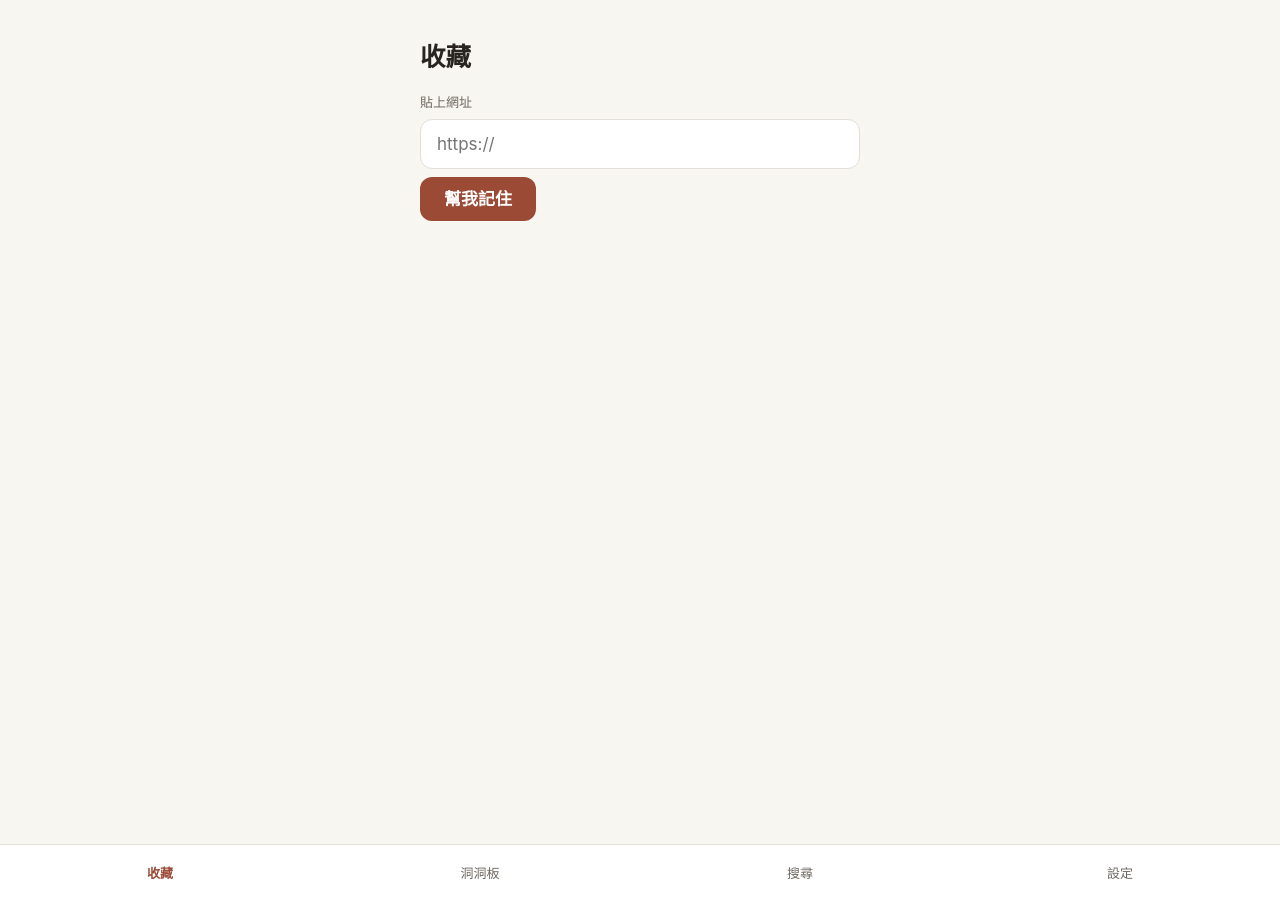
App shell › navigates to 洞洞板 when its nav item is clicked
The width and height of the screenshot is (1280, 900).
Expected: the heading "收藏" is shown, [420, 41, 471, 72]
What coordinates should you click on to do the following:
click the link "洞洞板"
I would click on:
 (480, 872)
Its box is [460, 864, 500, 880].
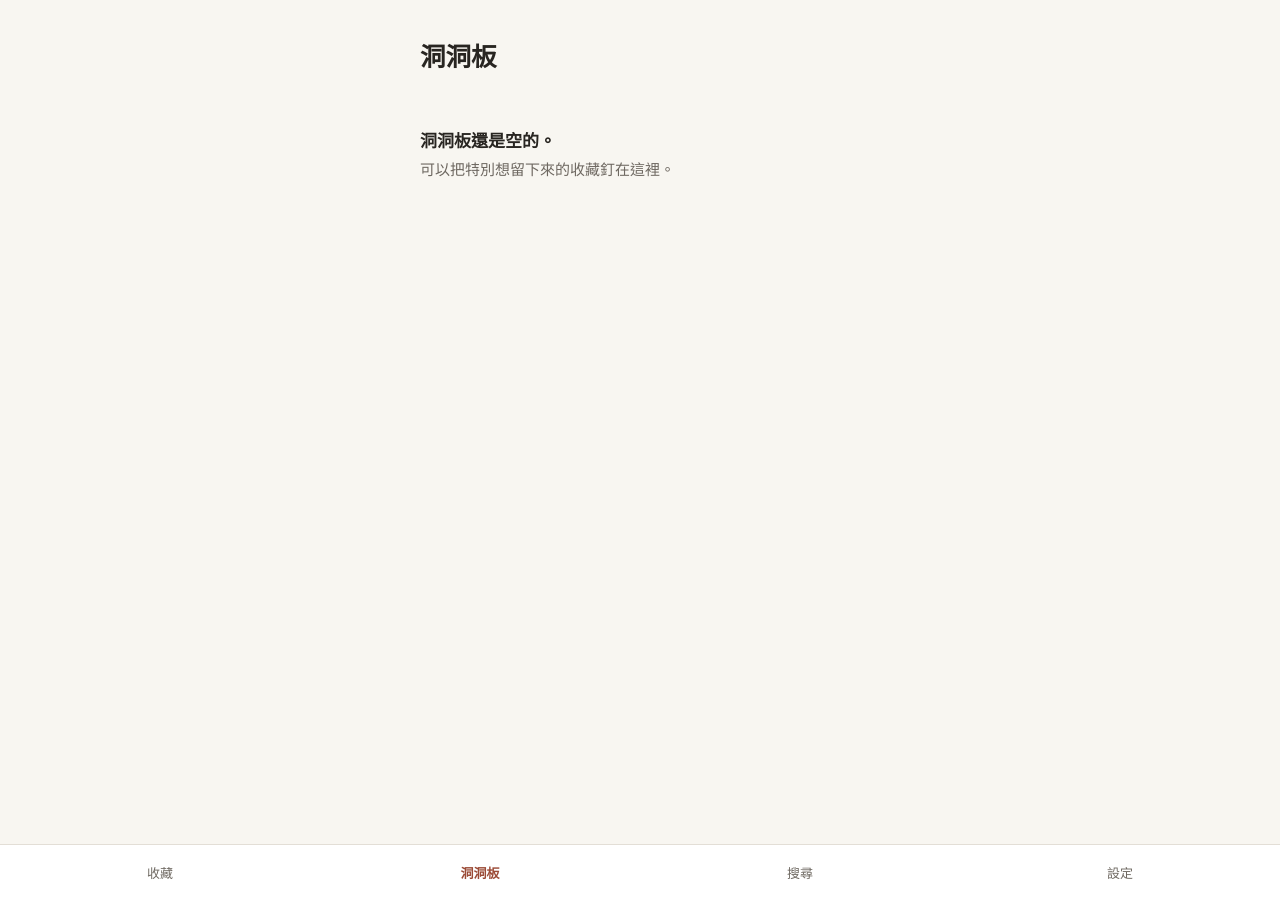
Expected: the heading "洞洞板" is shown, [420, 41, 496, 72]
